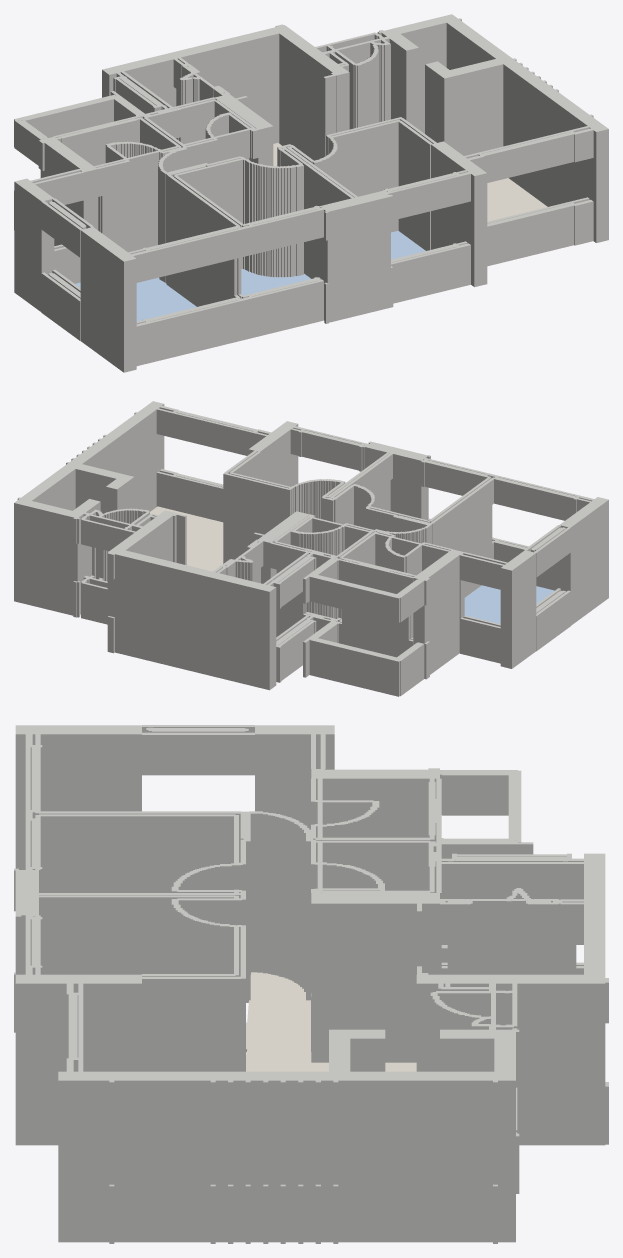
The picture shows the model from 3 angles, top to bottom: view 1: azimuth 30°, elevation 25°; view 2: azimuth 150°, elevation 25°; view 3: azimuth 270°, elevation 25°; orthographic projection. The views are drawn at different scales.
Visible parts, largest first — view 1: walls, room:other:5, room:bedroom:2, room:bedroom:3, room:bedroom:4; view 2: walls, room:other:5, room:bedroom:2; view 3: walls, room:other:5.
Boxes of the visible parts, bbox=[...] form: walls: bbox=[14, 14, 608, 372]; room:other:5: bbox=[273, 143, 547, 221]; room:bedroom:2: bbox=[75, 277, 196, 321]; room:bedroom:3: bbox=[241, 269, 310, 295]; room:bedroom:4: bbox=[391, 230, 425, 259]; walls: bbox=[14, 401, 608, 696]; room:other:5: bbox=[150, 506, 223, 571]; room:bedroom:2: bbox=[464, 585, 554, 623]; walls: bbox=[14, 725, 608, 1243]; room:other:5: bbox=[246, 972, 416, 1071].
Size of the model in its own units: 13.25 by 2.8 by 9.33.
